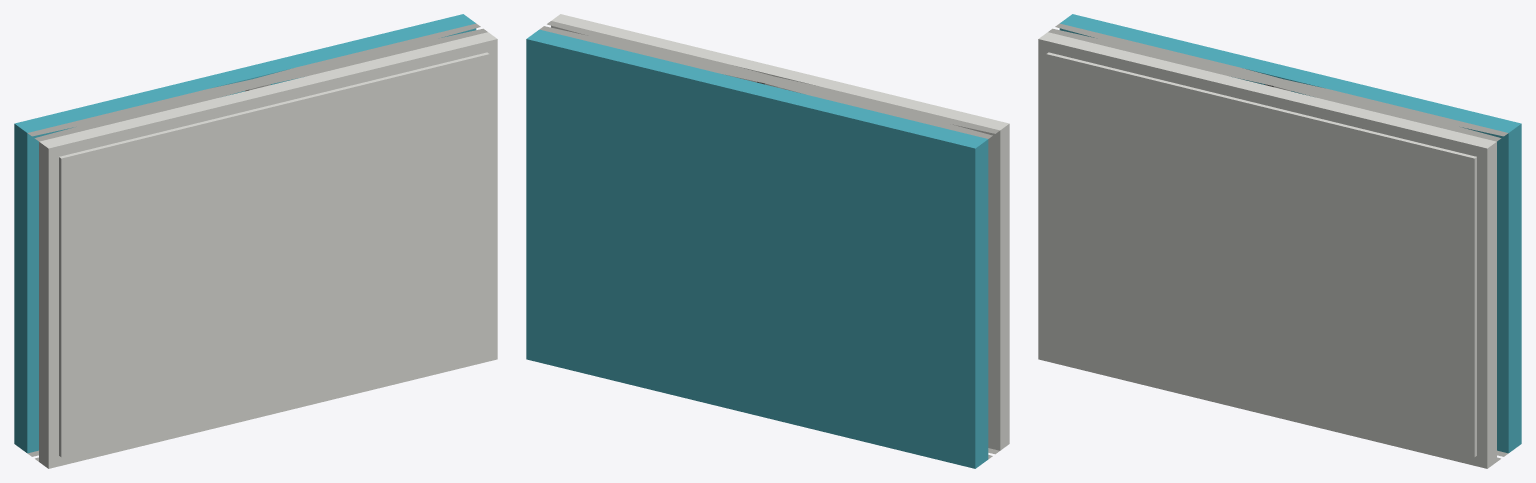
Rendered from lift_table_down.dae.
3 renders of one model, left to right at view 1: azimuth 30°, elevation 25°; view 2: azimuth 150°, elevation 25°; view 3: azimuth 330°, elevation 25°, orthographic.
Visible parts, largest first — view 1: instance_0_004, instance_0_001, instance_0_003, instance_0; view 2: instance_0_003, instance_0_001, instance_0; view 3: instance_0_004, instance_0_001, instance_0_003, instance_0.
Boxes of the visible parts, <box> form: instance_0_004: <box>59,52,489,457</box>; instance_0_001: <box>39,32,497,468</box>; instance_0_003: <box>14,14,476,453</box>; instance_0: <box>27,23,487,461</box>; instance_0_003: <box>526,29,988,468</box>; instance_0_001: <box>551,14,1009,450</box>; instance_0: <box>539,21,999,459</box>; instance_0_004: <box>1046,52,1476,457</box>; instance_0_001: <box>1038,32,1496,468</box>; instance_0_003: <box>1059,14,1521,453</box>; instance_0: <box>1048,23,1508,461</box>.
Bounding box in the file's own units: 866 × 591 × 122.
